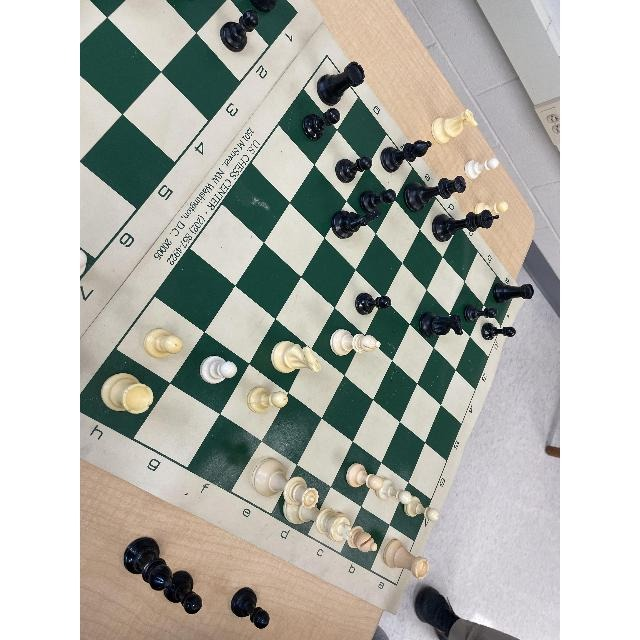black-bishop: (380, 137, 435, 173)
black-king: (428, 210, 503, 242)
black-knight: (327, 206, 383, 241), (417, 313, 467, 341)
black-pawn: (219, 8, 261, 56), (300, 106, 341, 142), (352, 290, 394, 319), (358, 187, 401, 214), (333, 155, 373, 184), (480, 323, 520, 345), (463, 303, 498, 324)
black-queen: (399, 175, 469, 215)
black-rook: (311, 59, 369, 107), (491, 278, 539, 306), (249, 0, 280, 16)
white-bishop: (326, 512, 380, 560), (328, 327, 383, 358)
white-king: (282, 489, 356, 544)
white-knight: (267, 339, 320, 373)
white-pawn: (142, 325, 186, 365), (398, 491, 441, 526), (247, 384, 290, 416), (344, 461, 384, 495), (199, 354, 241, 386), (374, 474, 414, 505), (80, 246, 91, 280)
white-queen: (252, 458, 320, 512)
white-rook: (96, 370, 158, 416), (382, 537, 430, 585)
